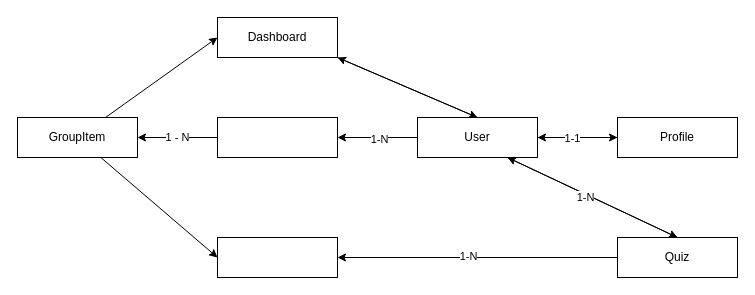
Some shapes in this 755 by 295 pixel diagram are drawn without their labels. The shapes that lost their labels are listed below. From the top down, each one's box as (x1, y1, x2, y2) in pixels, then its label:
(216, 116, 338, 158): Group
(216, 236, 338, 278): QuizQuest
